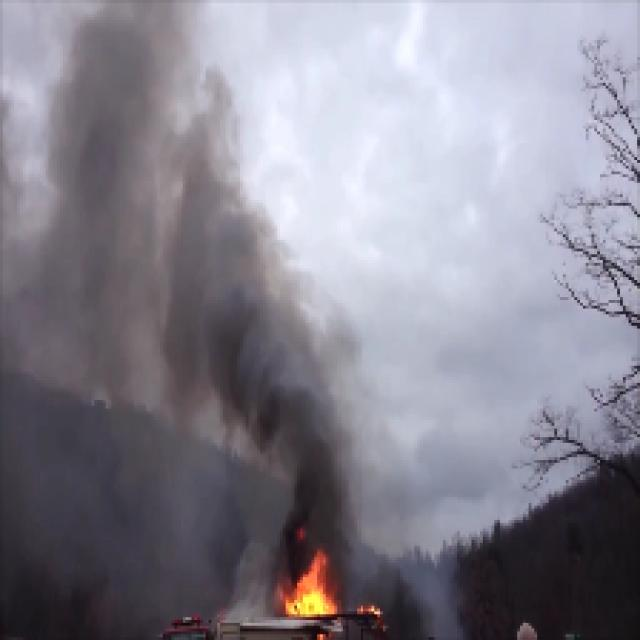fire: (287, 558, 333, 623)
smoke: (68, 130, 250, 374), (246, 383, 353, 545)
